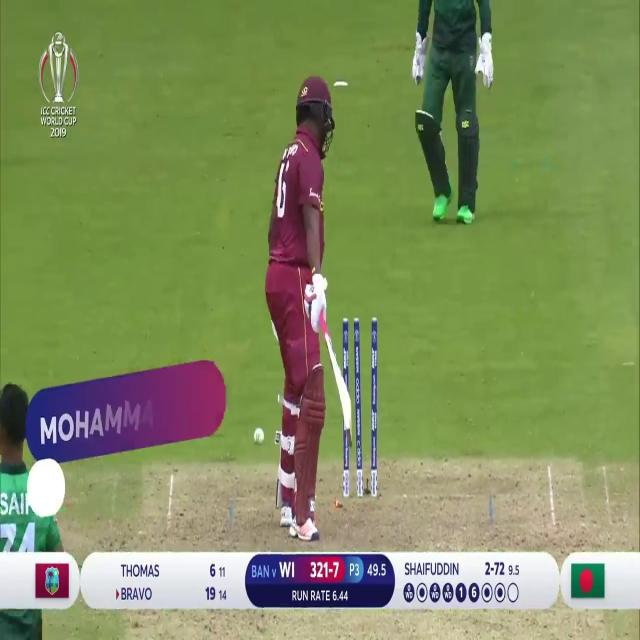ball: (252, 426, 265, 450)
